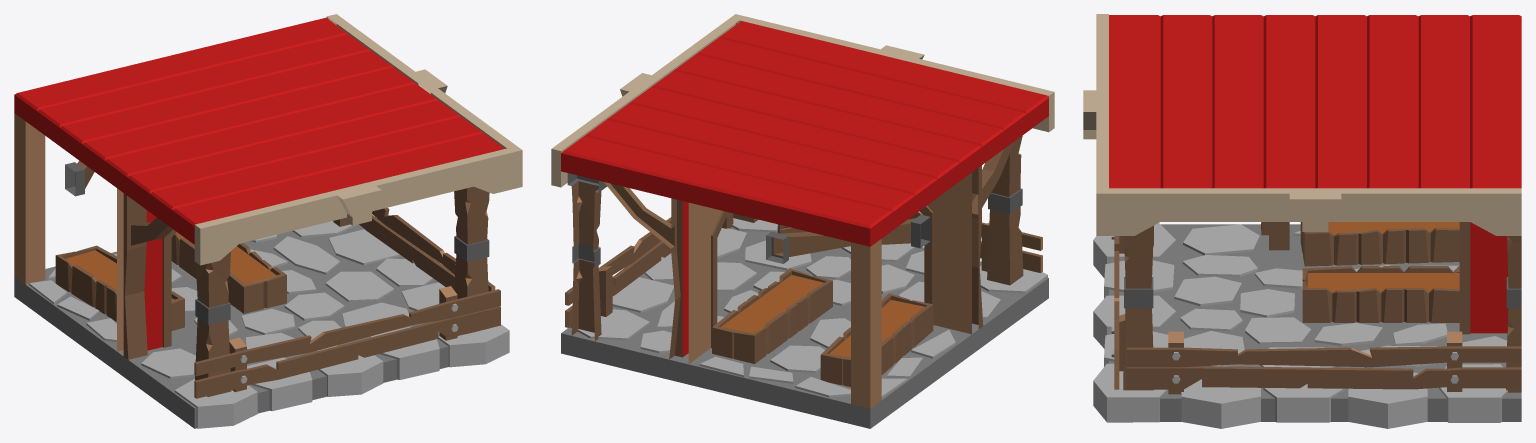
The model's file is Farm_Lvl_02_Corner_Left_Right.fbx.
3 renders of one model, left to right at view 1: azimuth 30°, elevation 25°; view 2: azimuth 150°, elevation 25°; view 3: azimuth 270°, elevation 25°, orthographic. The views are drawn at different scales.
Visible parts, largest first — view 1: Farm_Lvl_02_Corner_Left_Right; view 2: Farm_Lvl_02_Corner_Left_Right; view 3: Farm_Lvl_02_Corner_Left_Right.
Boxes of the visible parts, x1=… form: Farm_Lvl_02_Corner_Left_Right: x1=14, y1=14, x2=522, y2=428; Farm_Lvl_02_Corner_Left_Right: x1=551, y1=14, x2=1054, y2=428; Farm_Lvl_02_Corner_Left_Right: x1=1083, y1=14, x2=1521, y2=428.
Bounding box in the file's own units: 8.5 × 5 × 8.5.
